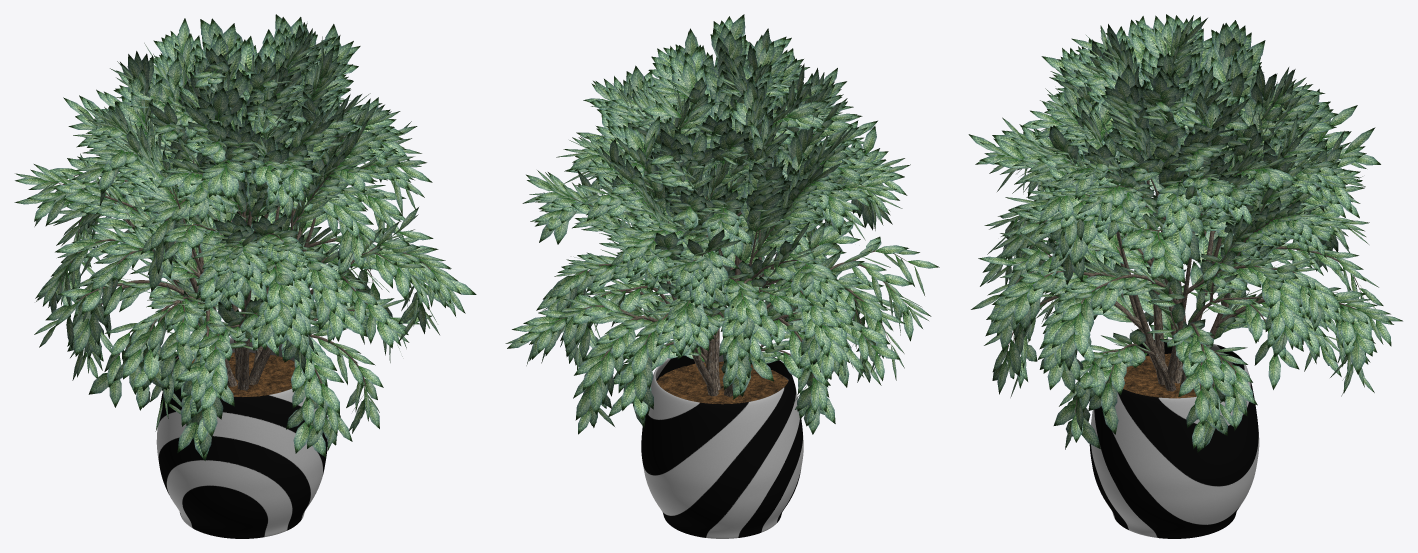
Rendered from flowerpot_2.glb.
3 views of the same model, side by side, from view 1: azimuth 30°, elevation 25°; view 2: azimuth 150°, elevation 25°; view 3: azimuth 270°, elevation 25° (orthographic). The views are drawn at different scales.
Visible parts, largest first — view 1: leaves, Cylinder, tree, Cylinder.004; view 2: leaves, Cylinder, tree, Cylinder.004; view 3: leaves, Cylinder, tree, Cylinder.004.
Boxes of the visible parts, box(x1,y1,x2,y2) form: leaves: box(14, 14, 476, 460); Cylinder: box(156, 337, 327, 538); tree: box(49, 81, 430, 391); Cylinder.004: box(191, 352, 295, 396); leaves: box(505, 14, 939, 434); Cylinder: box(641, 347, 803, 538); tree: box(554, 102, 913, 396); Cylinder.004: box(656, 361, 788, 404); leaves: box(968, 14, 1402, 452); Cylinder: box(1089, 338, 1259, 538); tree: box(1005, 71, 1363, 413); Cylinder.004: box(1109, 353, 1236, 398).
Bounding box in the file's own units: 515 × 679 × 541.
4 materials, 4 textured.
